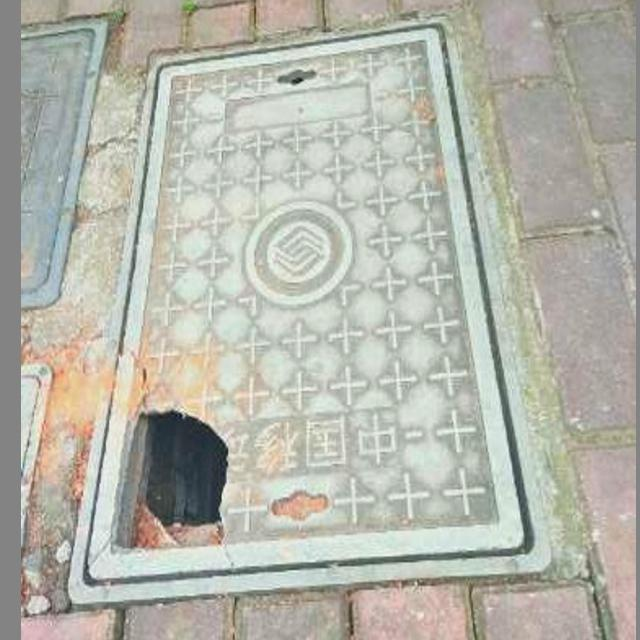broke: (66, 11, 556, 605)
